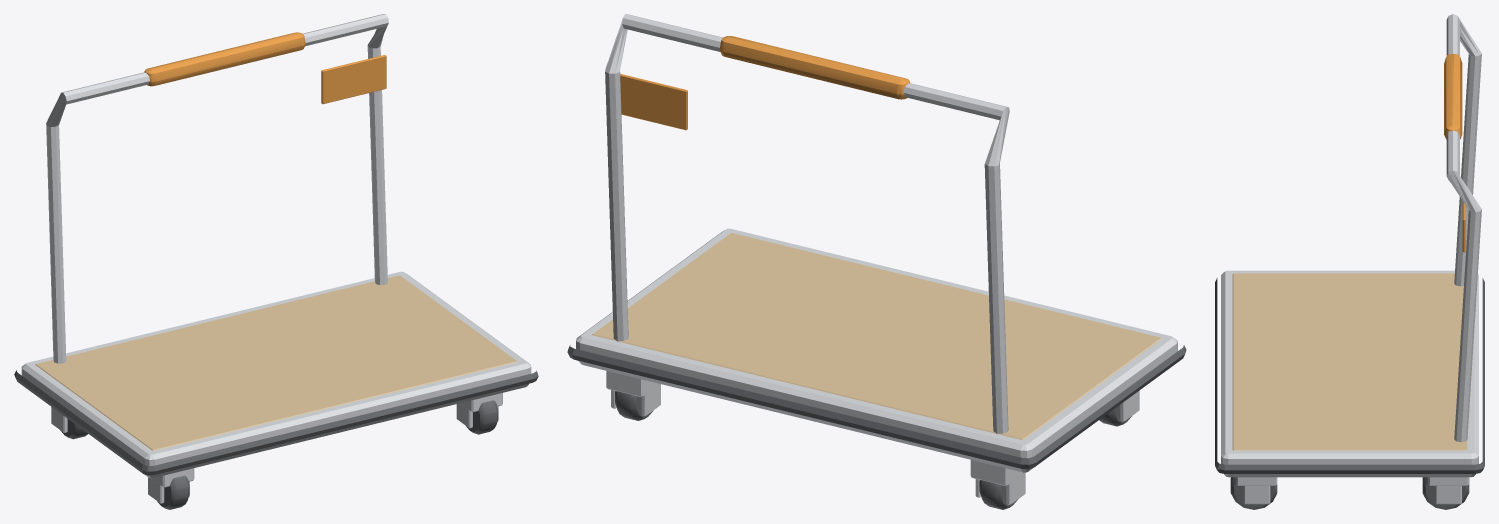
File: flatbed-platform-trolley.glb
3 views of the same model, side by side, from view 1: azimuth 30°, elevation 25°; view 2: azimuth 150°, elevation 25°; view 3: azimuth 270°, elevation 25° (orthographic). The views are drawn at different scales.
Parts seen in each view (by area): view 1: flatbed-trolley; view 2: flatbed-trolley; view 3: flatbed-trolley.
Boxes of the visible parts, x1,y1,x2,y2 form: flatbed-trolley: [14, 14, 538, 509]; flatbed-trolley: [567, 14, 1186, 509]; flatbed-trolley: [1215, 14, 1484, 509].
Bounding box in the file's own units: 1.23 × 1.02 × 0.732.
